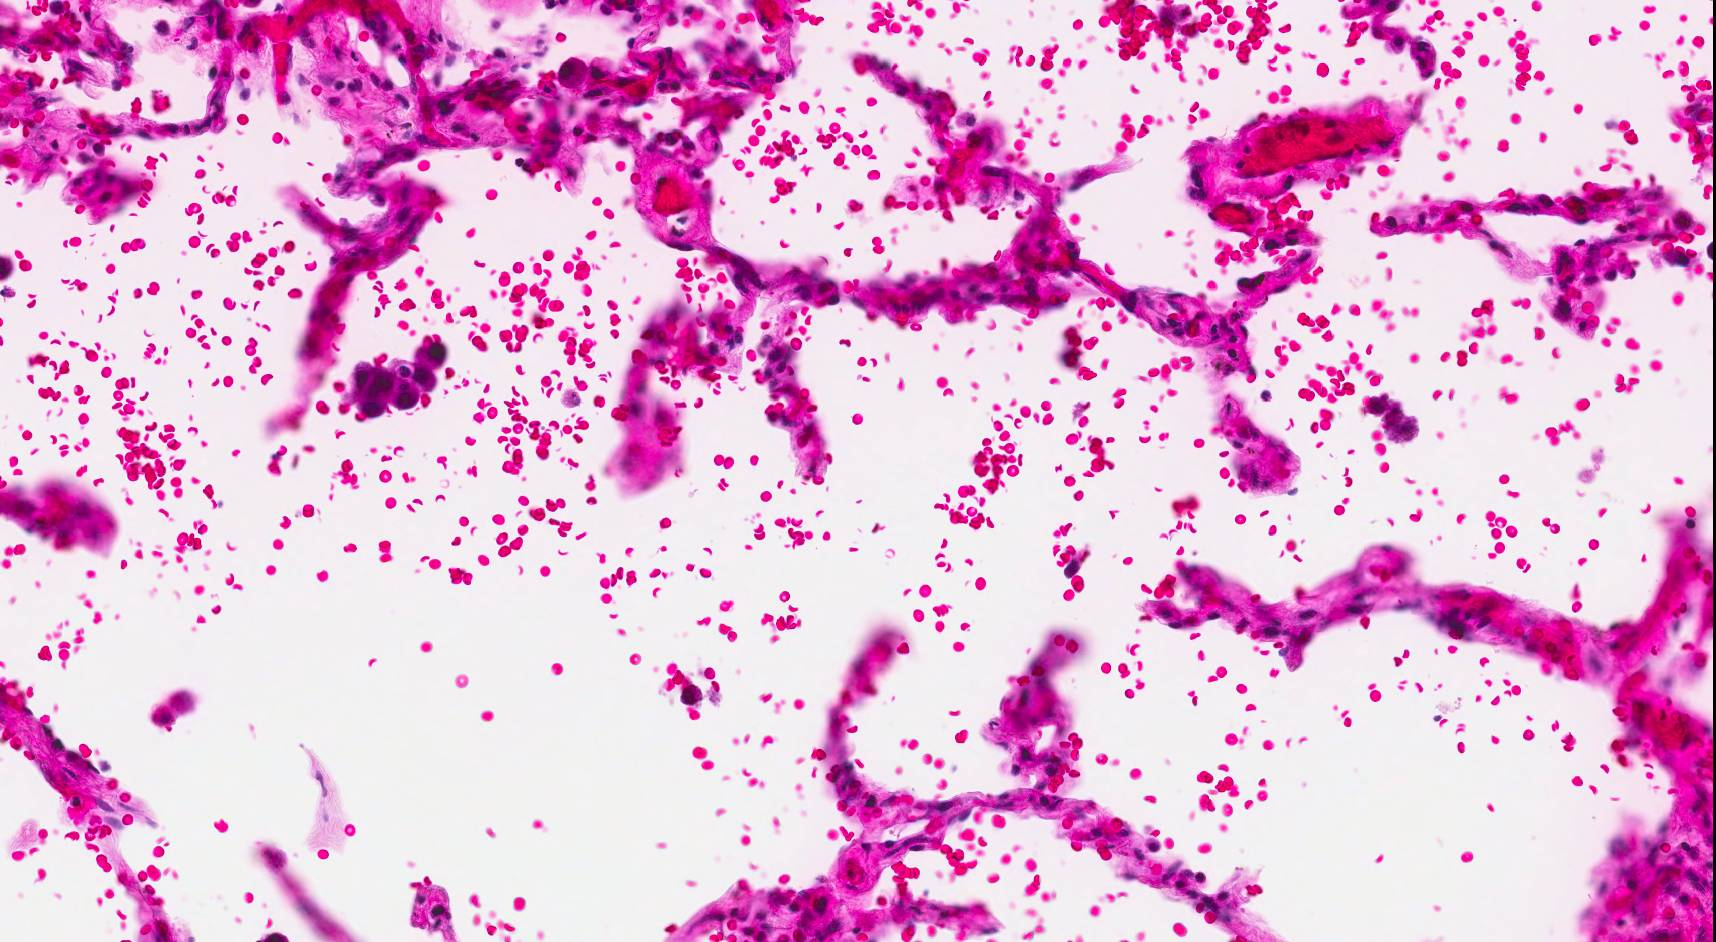stas: (344, 341, 446, 418)
